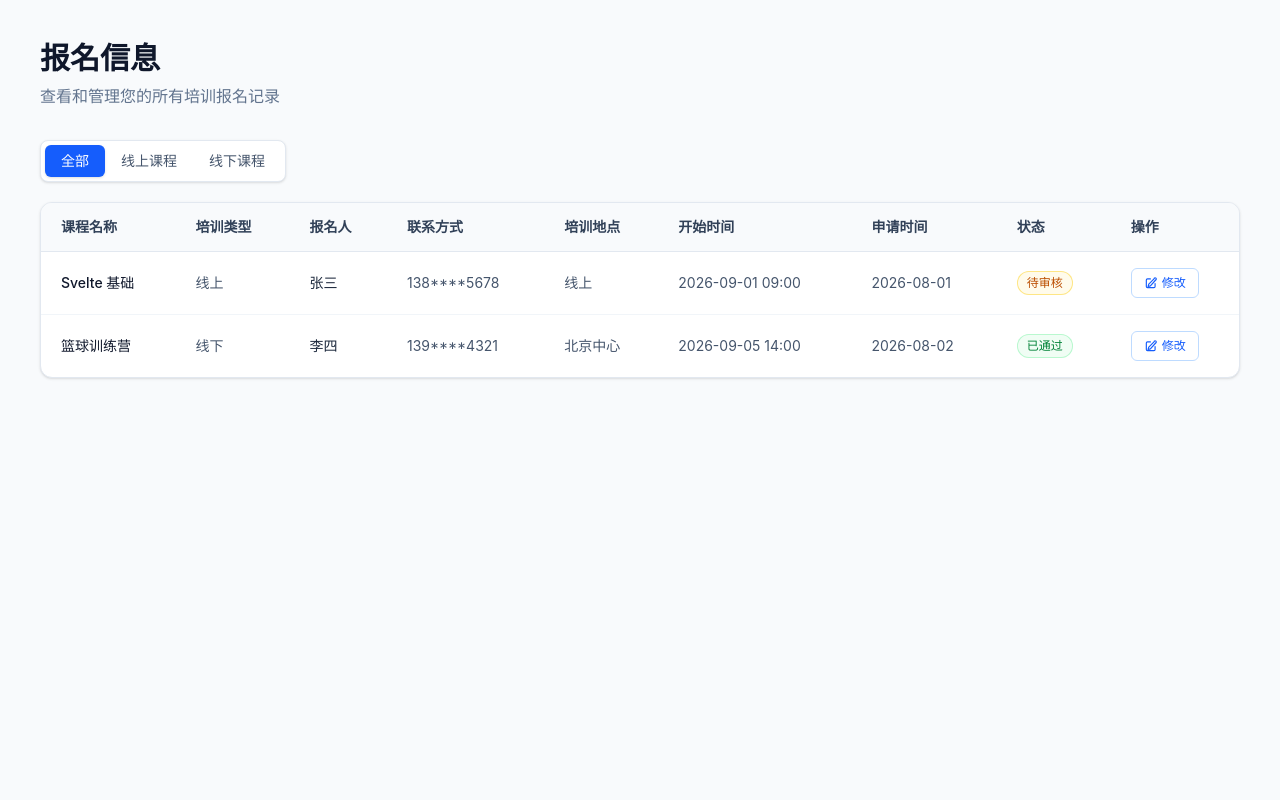
Enrollments Page › should open the edit modal and update the enrollment
Click the button "修改" in the row of "Svelte 基础" at (1165, 283), box [1131,268,1199,298]
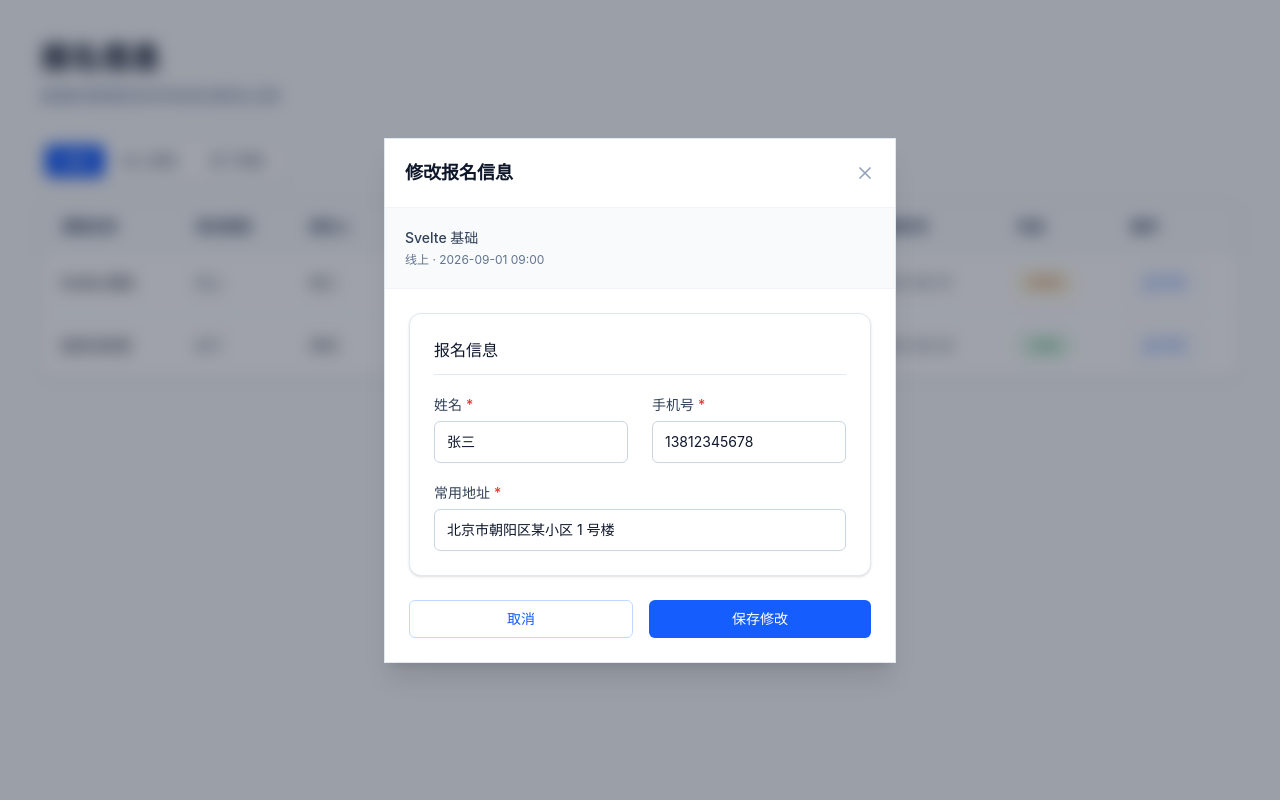
Check: the heading "修改报名信息" is shown, box [405,158,513,186]
Replace the text in the field labelled "姓名 *" with "张三丰" at (531, 442), box [434,420,628,462]
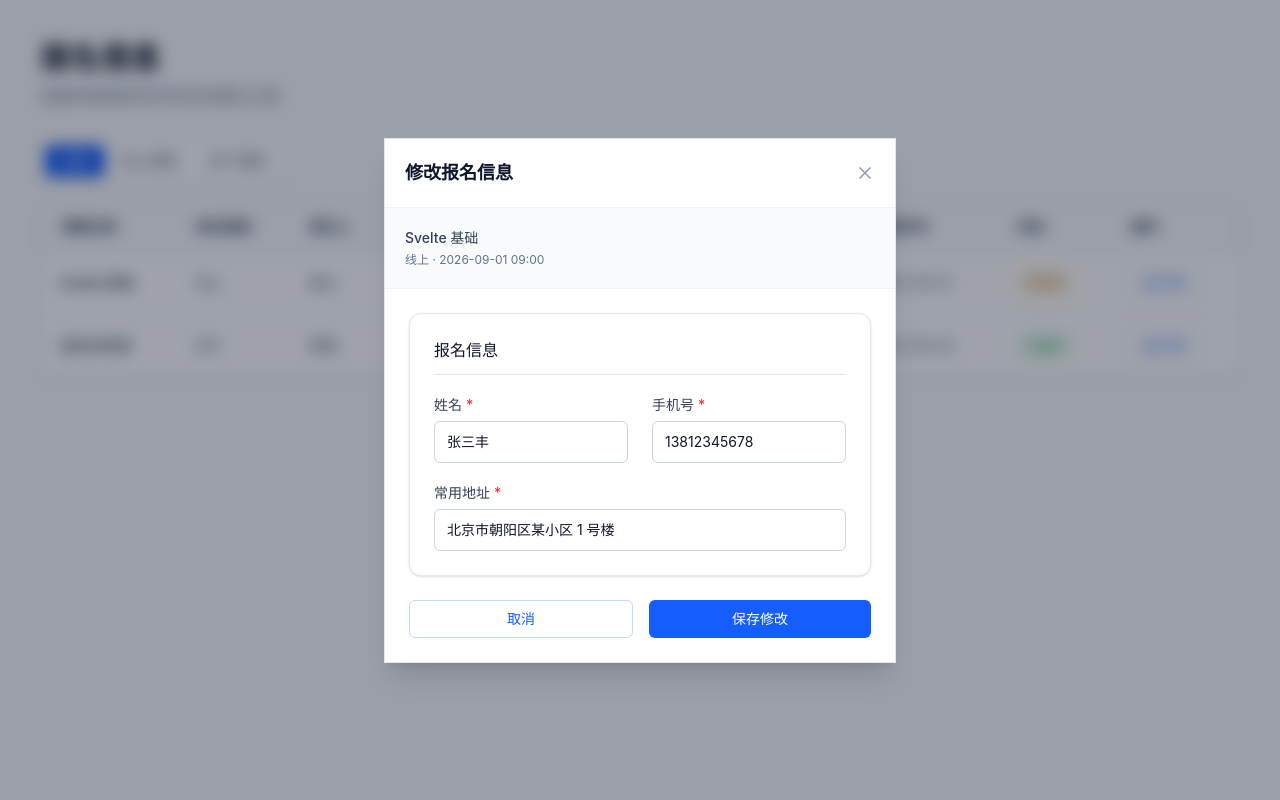
Replace the text in the field labelled "常用地址 *" with "广东省深圳市某路 66 号" at (640, 530), box [434,508,846,550]
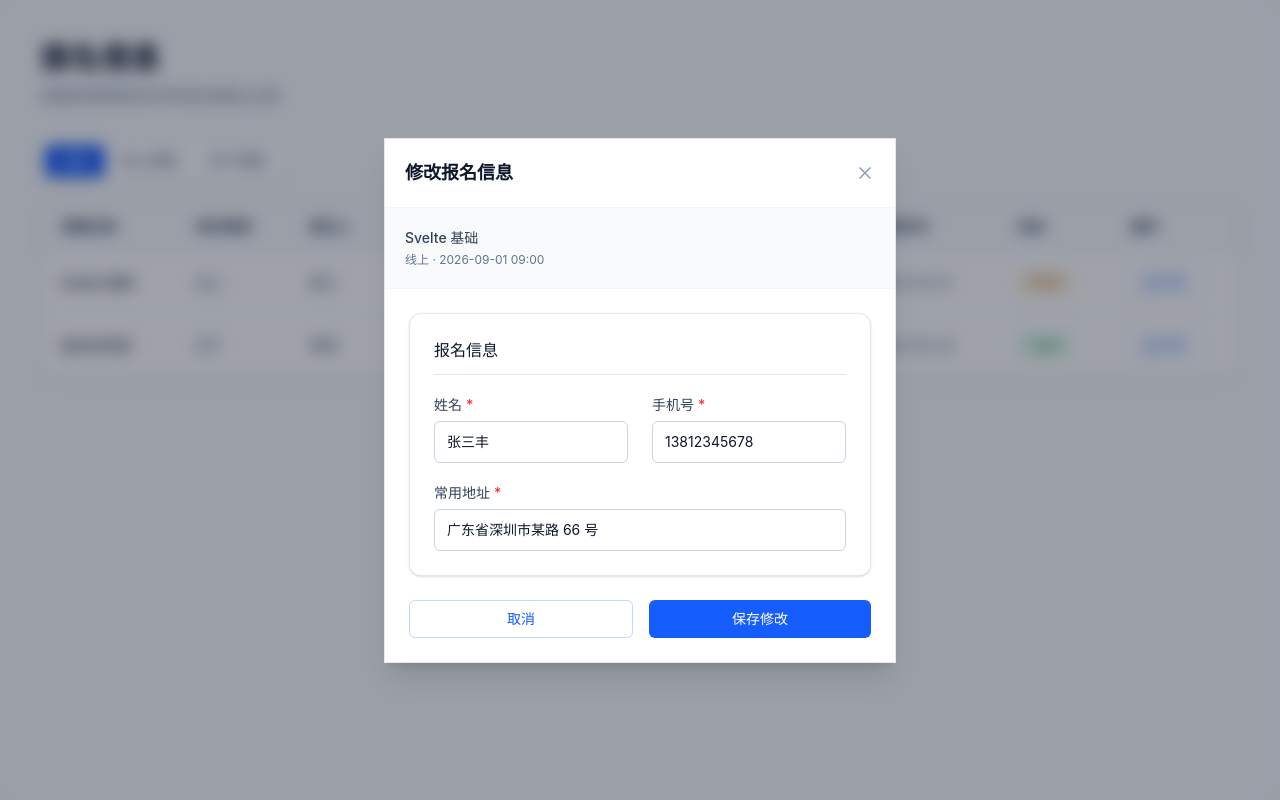
Click the button "保存修改" at (760, 618), box [649,600,871,638]
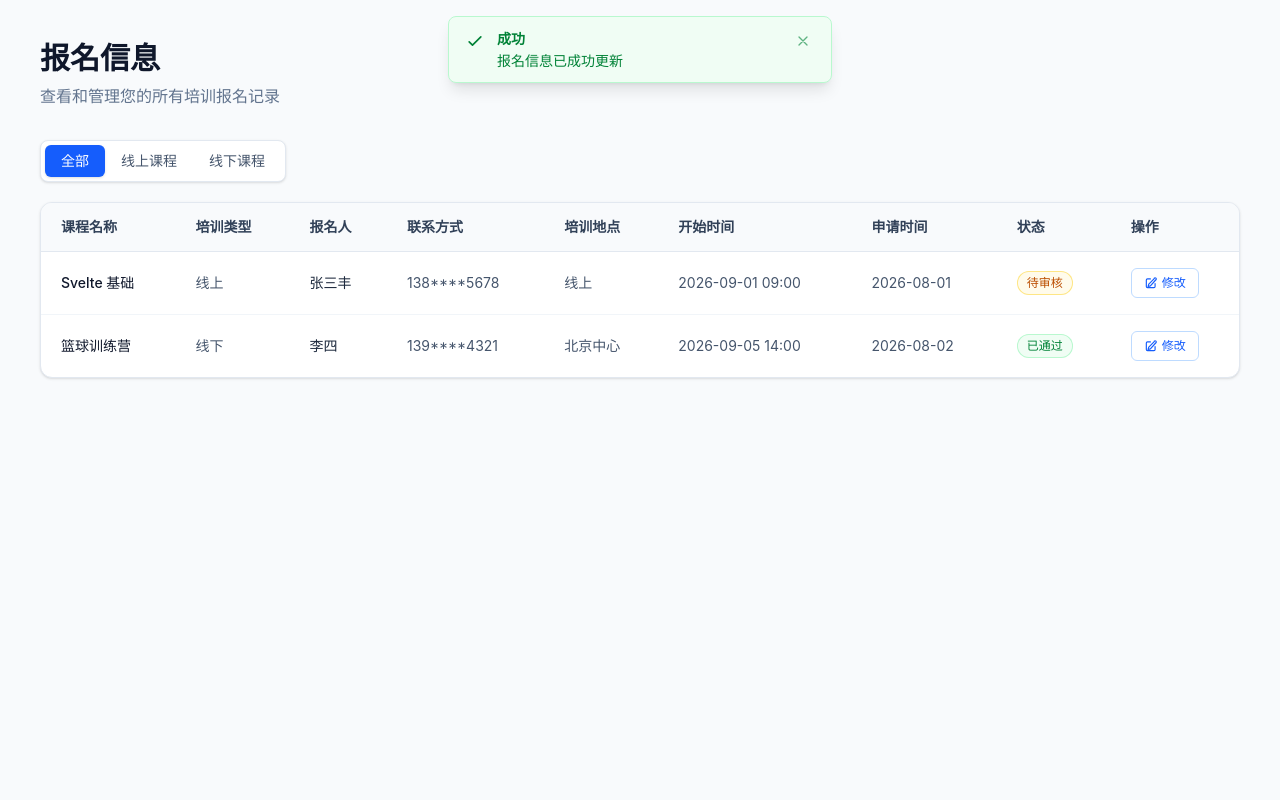
Check: the heading "修改报名信息" is gone
Check: the cell "张三丰" is shown, box [290,252,387,314]
